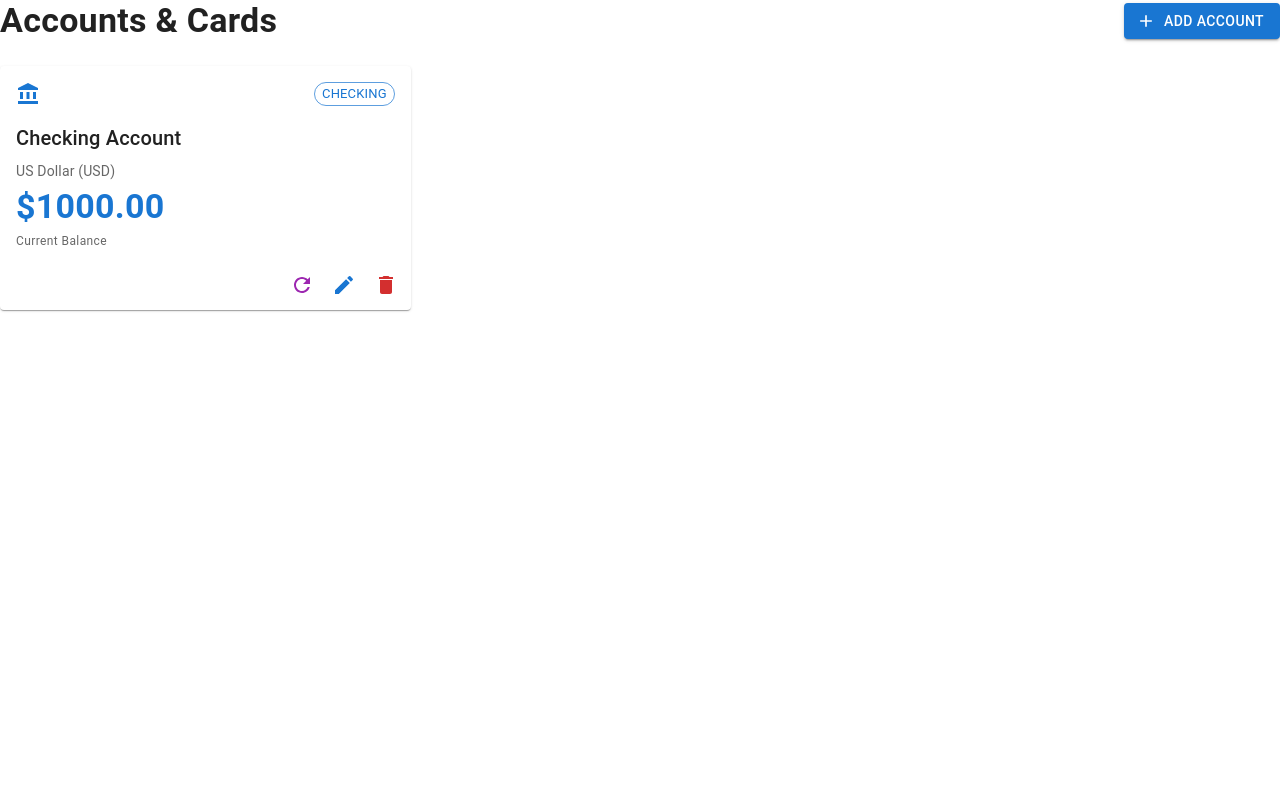
Accounts › Add Account Dialog › should close dialog when cancel is clicked
This screenshot has width=1280, height=800.
Click the button "Add Account": (1202, 21) [1124, 3, 1279, 39]
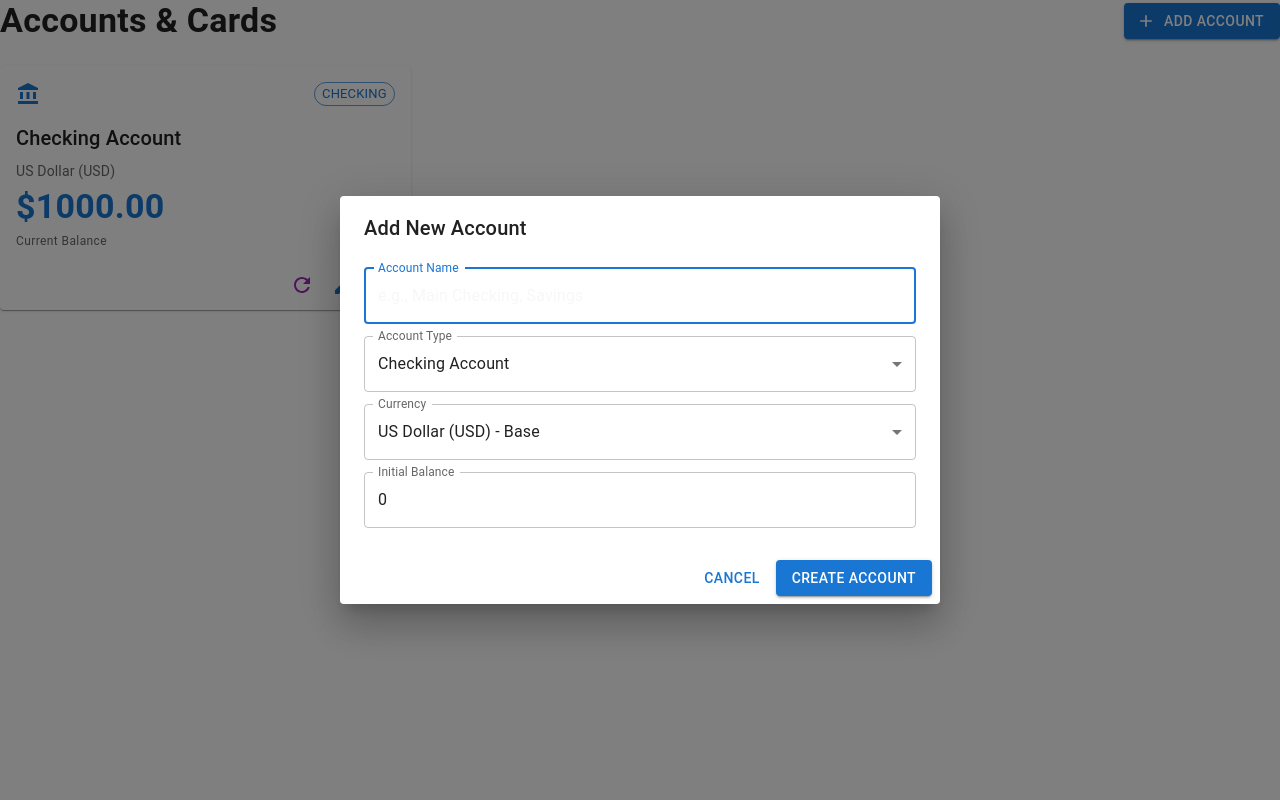
Result: the button "Cancel" is shown
Click the button "Cancel": (732, 578) [696, 560, 768, 596]
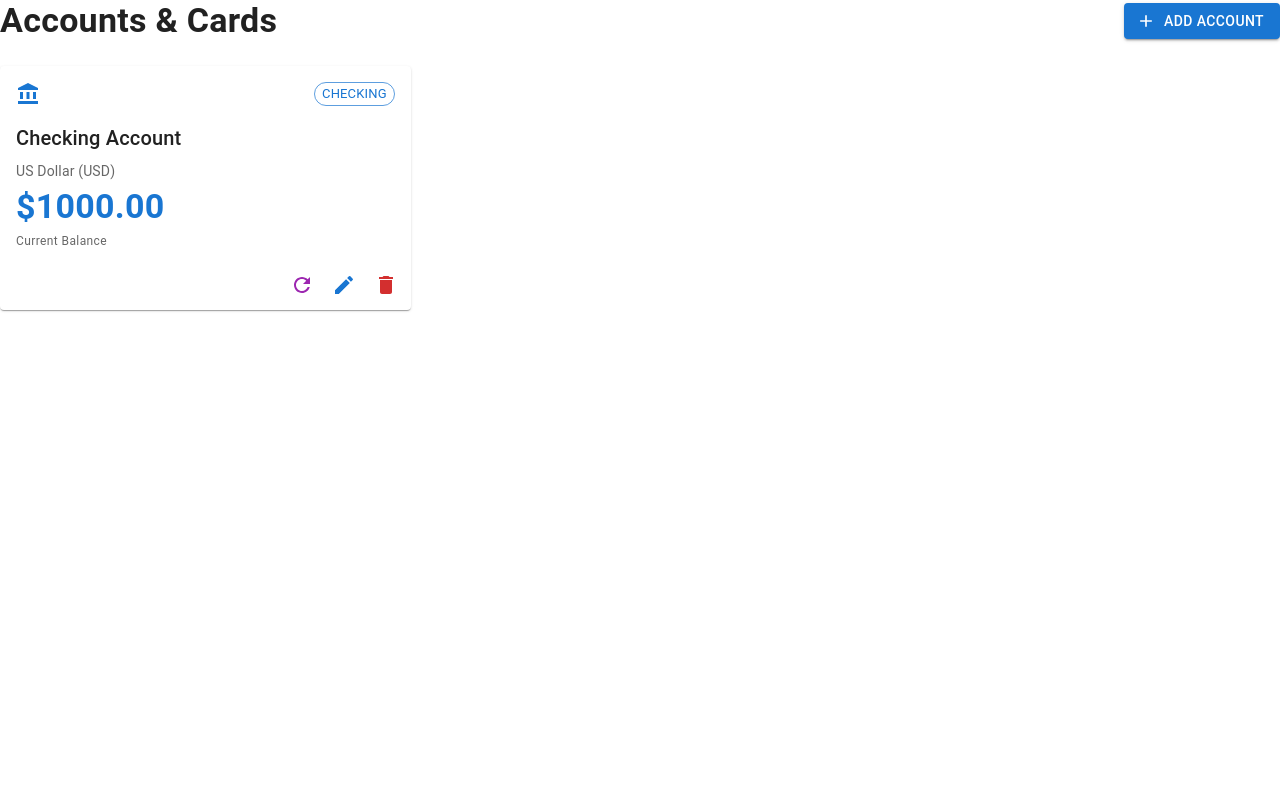
Result: the label labelled "Account Name" is gone
